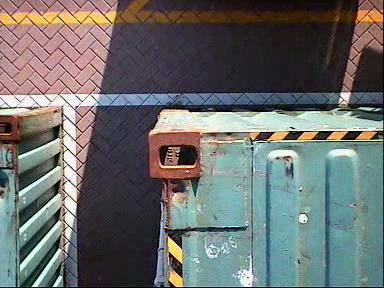groundmarker_2: (162, 127, 257, 247)
